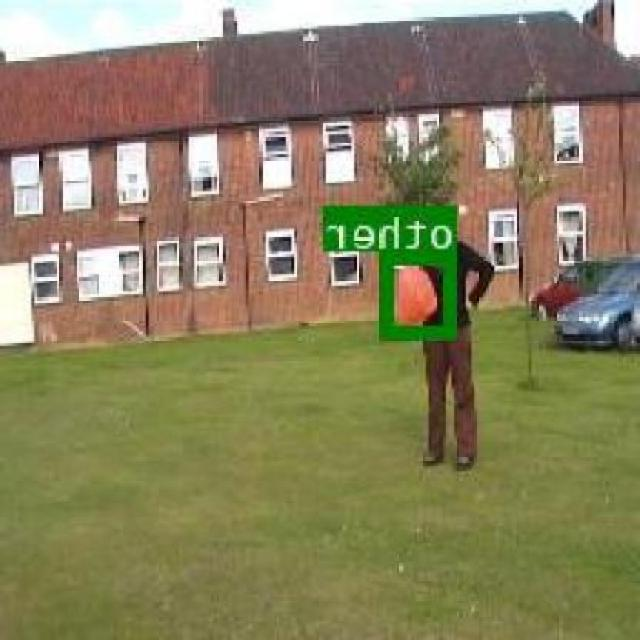other: (383, 249, 459, 337)
